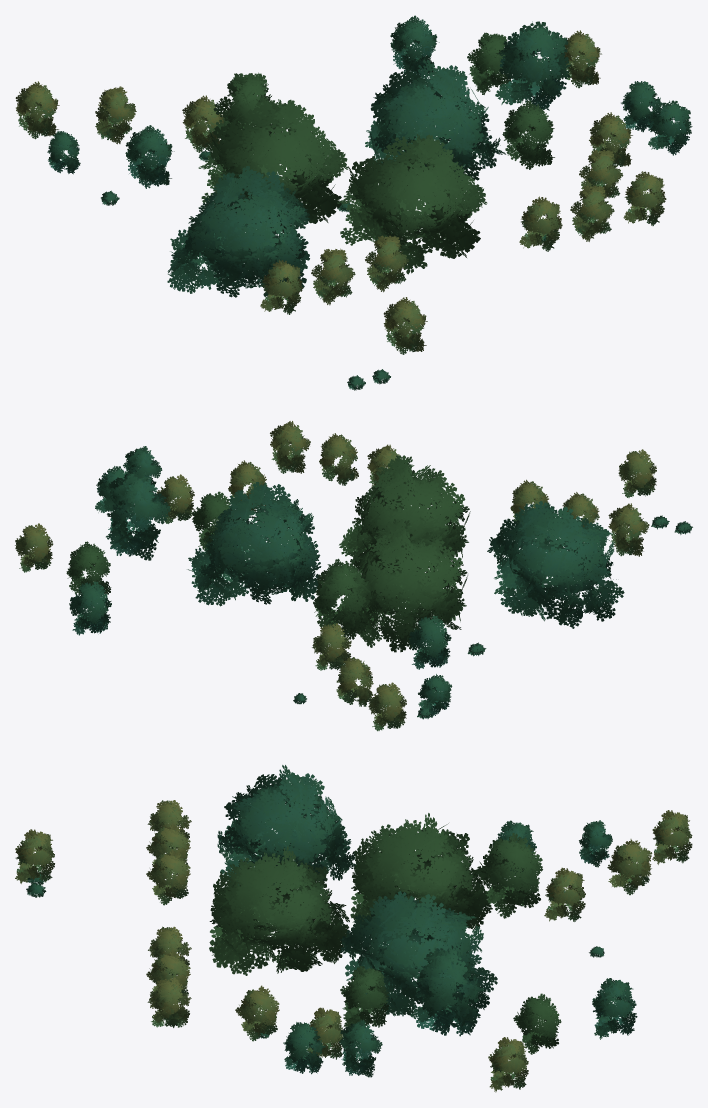
File: part-2-1-mesh-Leaves-1.fbx
The picture shows the model from 3 angles, top to bottom: view 1: azimuth 30°, elevation 25°; view 2: azimuth 150°, elevation 25°; view 3: azimuth 270°, elevation 25°; orthographic projection. The views are drawn at different scales.
Parts seen in each view (by area): view 1: part_2_1_mesh_Leaves_1; view 2: part_2_1_mesh_Leaves_1; view 3: part_2_1_mesh_Leaves_1.
Part boxes in pixels (box(x1,y1,x2,y2)): part_2_1_mesh_Leaves_1: box(15, 15, 692, 390); part_2_1_mesh_Leaves_1: box(15, 421, 692, 731); part_2_1_mesh_Leaves_1: box(15, 765, 692, 1092).
Size of the model in its own units: 10489 by 2515 by 11368.
